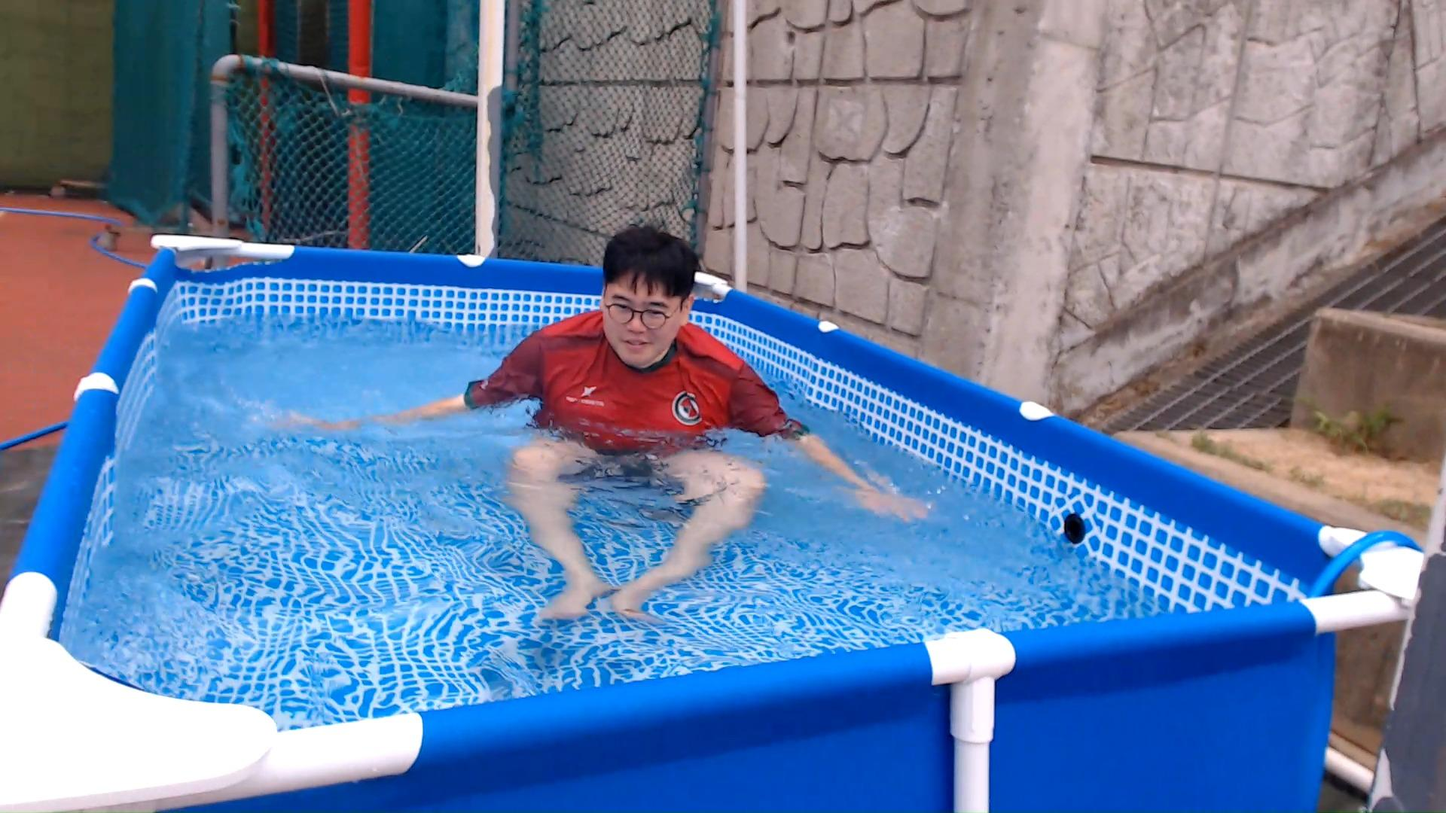Swimming: (242, 223, 1003, 623)
